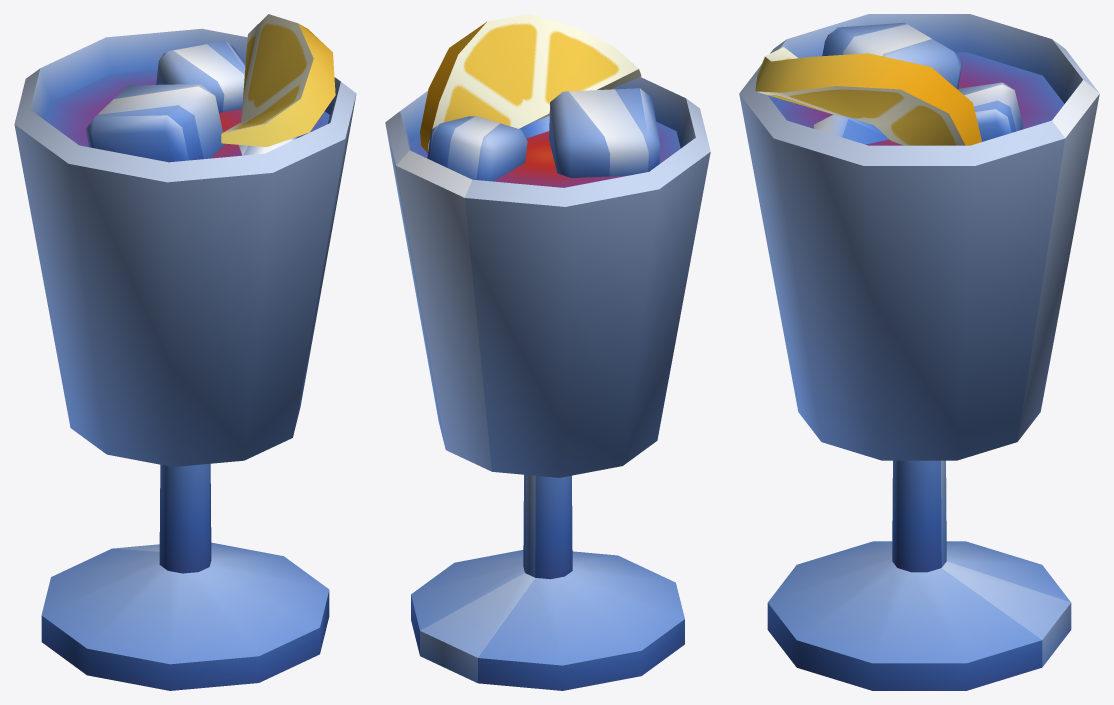
The model's file is m_Cocktail03.fbx.
3 renders of one model, left to right at view 1: azimuth 30°, elevation 25°; view 2: azimuth 150°, elevation 25°; view 3: azimuth 270°, elevation 25°, orthographic. The views are drawn at different scales.
Parts seen in each view (by area): view 1: m_Cocktail03; view 2: m_Cocktail03; view 3: m_Cocktail03.
Part boxes in pixels (x1,y1,x2,y2): m_Cocktail03: (14, 14, 356, 690); m_Cocktail03: (385, 14, 710, 690); m_Cocktail03: (739, 14, 1099, 690).
Size of the model in its own units: 11.3 by 22.58 by 11.88.
